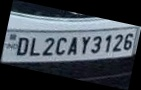character: (41, 37, 55, 56), (16, 36, 28, 56), (55, 36, 67, 55), (29, 37, 40, 56), (90, 35, 101, 54), (67, 36, 77, 56), (80, 35, 90, 54), (112, 33, 122, 52), (123, 32, 133, 50), (104, 34, 111, 52)
